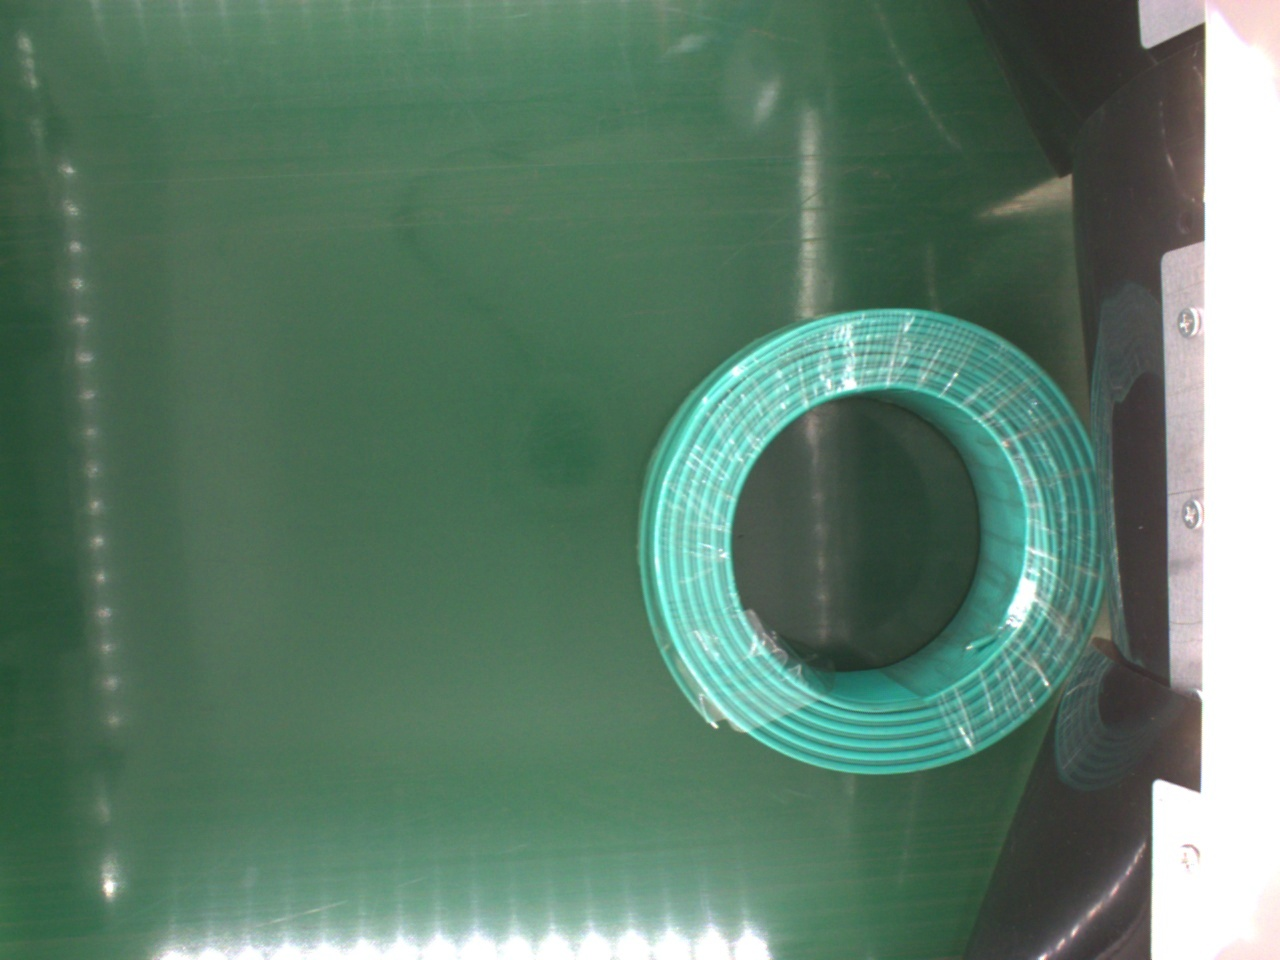green: (639, 305, 1109, 774)
